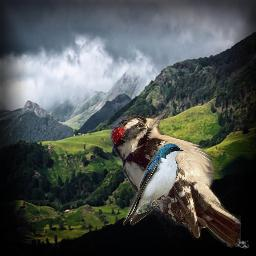Swallow: (123, 143, 184, 226)
Woodpecker: (110, 112, 241, 247)
